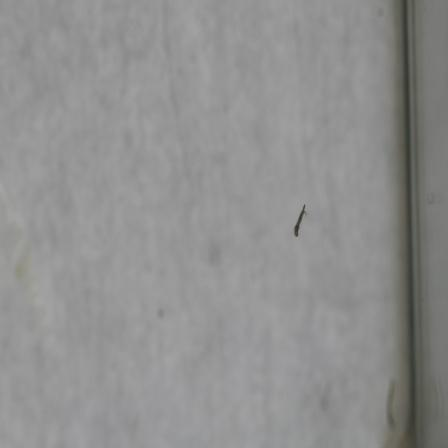Jentik-Nyamuk: (289, 202, 310, 241)
